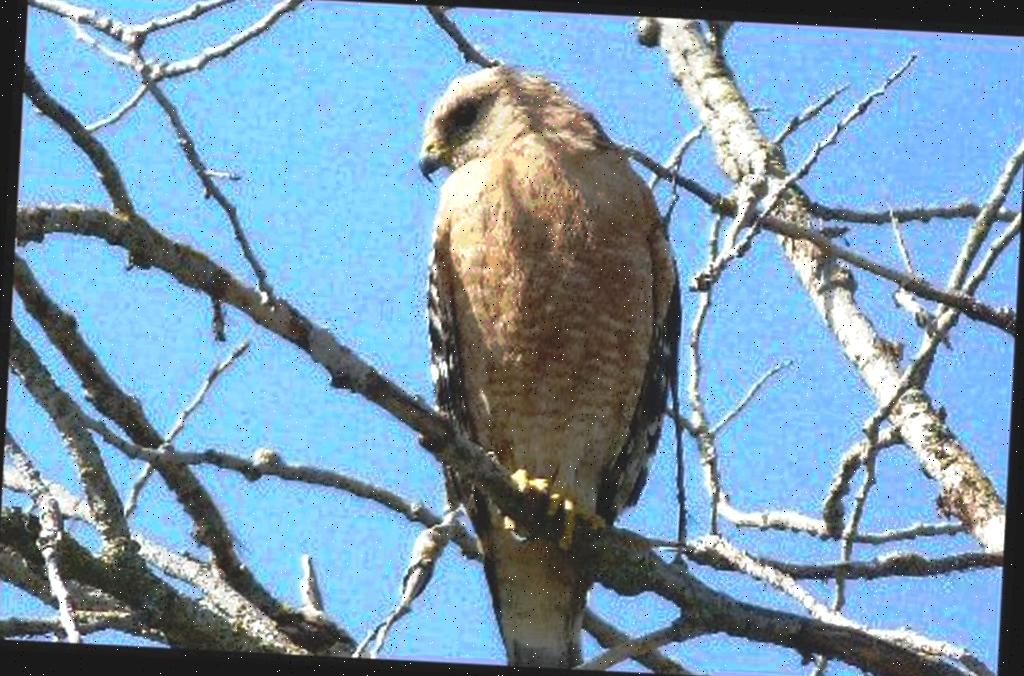Owl: (388, 51, 696, 676)
